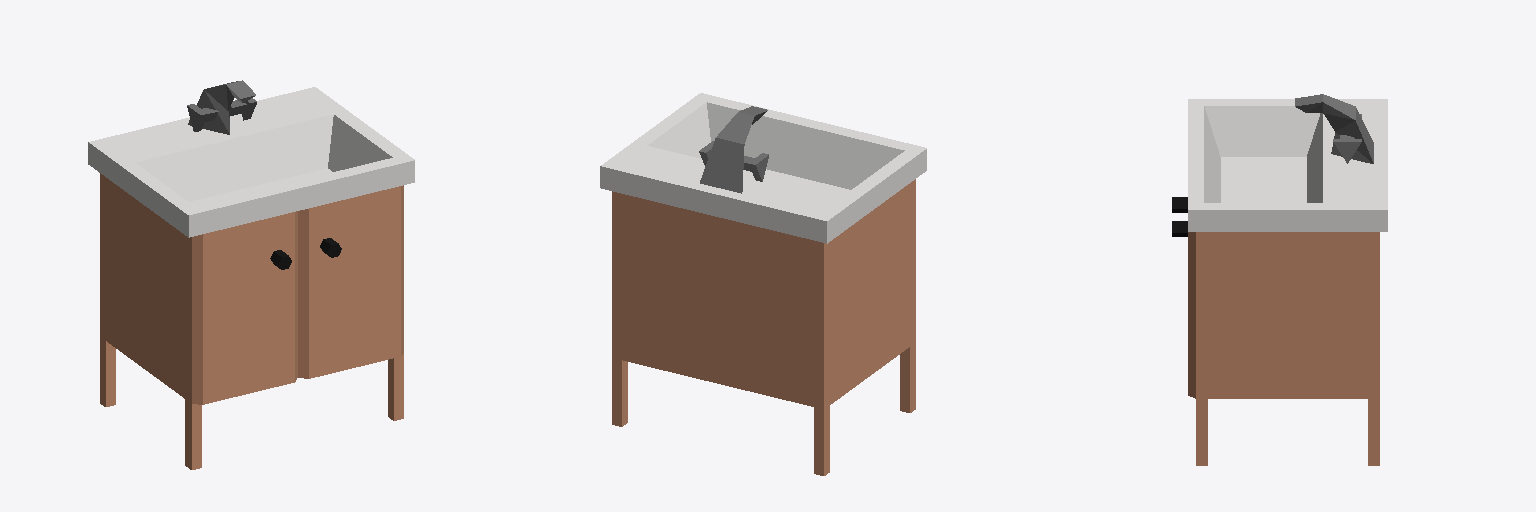
The model's file is Sink.obj.
3 renders of one model, left to right at view 1: azimuth 30°, elevation 25°; view 2: azimuth 150°, elevation 25°; view 3: azimuth 270°, elevation 25°, orthographic.
Visible parts, largest first — view 1: object_6, object_13, object_10, object_4, object_7, object_1, object_8, object_2; view 2: object_4, object_6, object_7, object_8, object_9, object_1; view 3: object_4, object_6, object_7, object_10, object_2, object_9.
Boxes of the visible parts, <box> form: object_6: <box>88,87,414,237</box>; object_13: <box>192,211,297,404</box>; object_10: <box>298,185,403,378</box>; object_4: <box>100,173,191,403</box>; object_7: <box>188,80,255,134</box>; object_1: <box>185,399,201,469</box>; object_8: <box>100,337,115,406</box>; object_2: <box>388,353,403,420</box>; object_4: <box>612,179,915,409</box>; object_6: <box>600,93,926,243</box>; object_7: <box>700,106,767,193</box>; object_8: <box>814,406,829,475</box>; object_9: <box>612,358,627,426</box>; object_1: <box>900,343,915,412</box>; object_4: <box>1196,232,1379,398</box>; object_6: <box>1188,99,1387,231</box>; object_7: <box>1295,94,1373,163</box>; object_10: <box>1188,232,1195,398</box>; object_2: <box>1196,399,1207,465</box>; object_9: <box>1368,399,1379,465</box>.
Size of the model in its own units: 64 by 85.09 by 53.